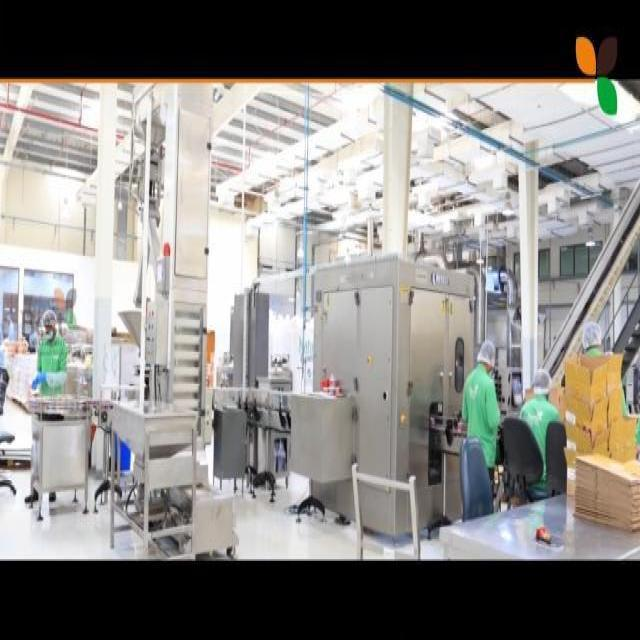gloved_hand: (30, 364, 51, 394)
